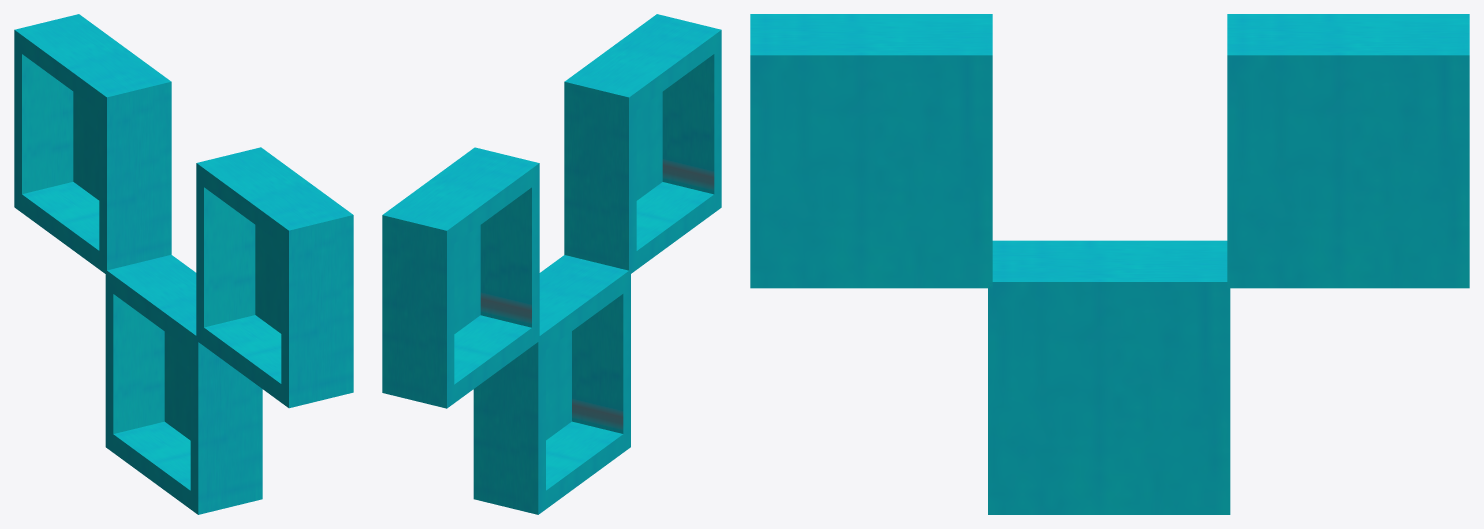
The model's file is estantes.fbx.
The picture shows the model from 3 angles, left to right: view 1: azimuth 30°, elevation 25°; view 2: azimuth 150°, elevation 25°; view 3: azimuth 270°, elevation 25°; orthographic projection. The views are drawn at different scales.
Visible parts, largest first — view 1: polySurface1626; view 2: polySurface1626; view 3: polySurface1626.
Part boxes in pixels (box(x1,y1,x2,y2)): polySurface1626: box(14, 14, 353, 514); polySurface1626: box(382, 14, 721, 514); polySurface1626: box(750, 14, 1469, 514).
Bounding box in the file's own units: 0.9222 × 4.78 × 6.79.
